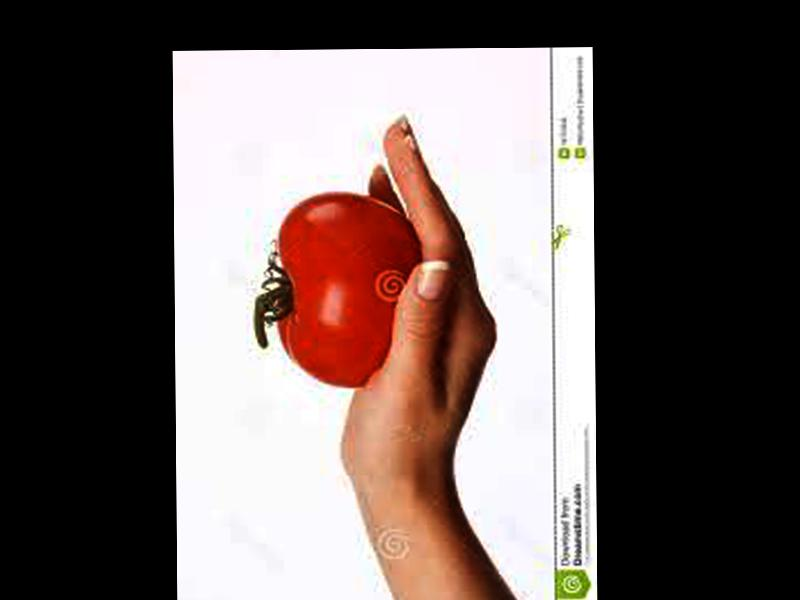Tomato: (276, 192, 421, 388)
